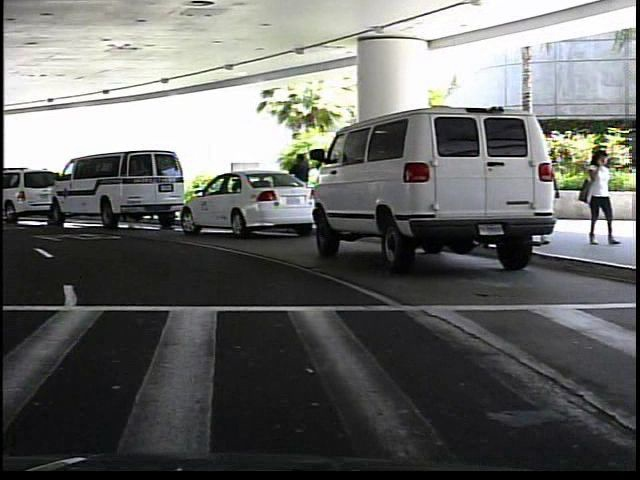person: (577, 147, 620, 246), (285, 149, 316, 218)
